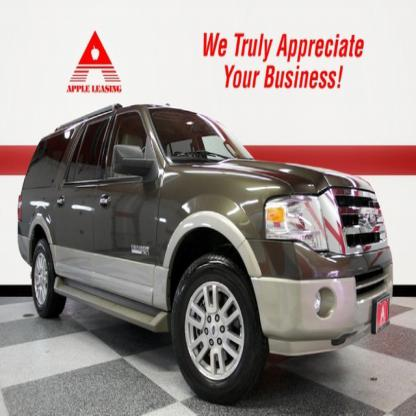Vehicle: (19, 106, 394, 406)
